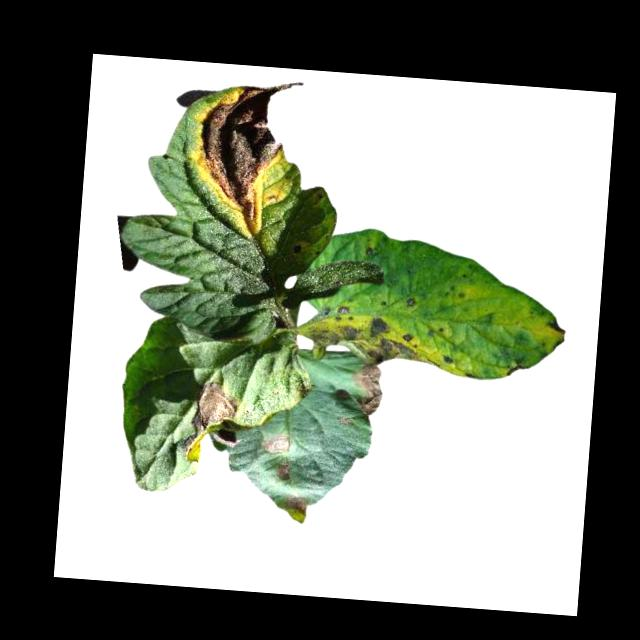Early_blight: (189, 73, 306, 232), (298, 298, 442, 365), (182, 377, 240, 466), (353, 363, 383, 416), (545, 317, 568, 347), (269, 434, 292, 456), (284, 494, 306, 517), (276, 460, 292, 480), (334, 414, 354, 429)
